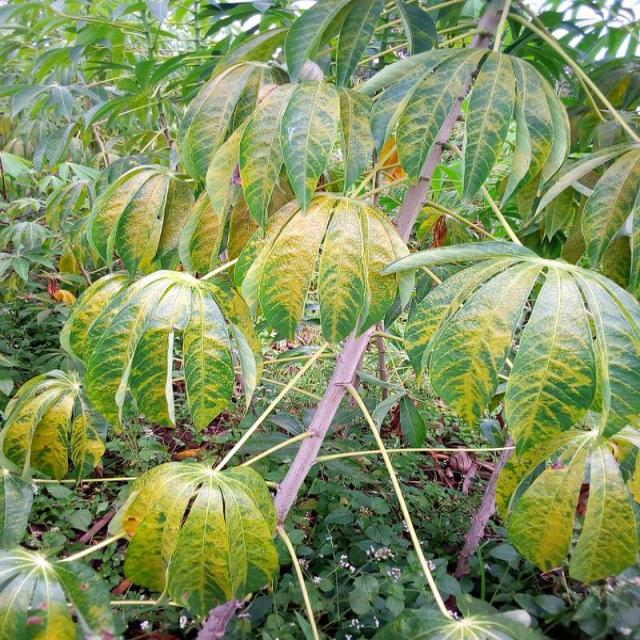cassava leaf: (2, 2, 638, 635), (77, 268, 257, 433), (110, 458, 280, 618), (237, 192, 413, 345)
